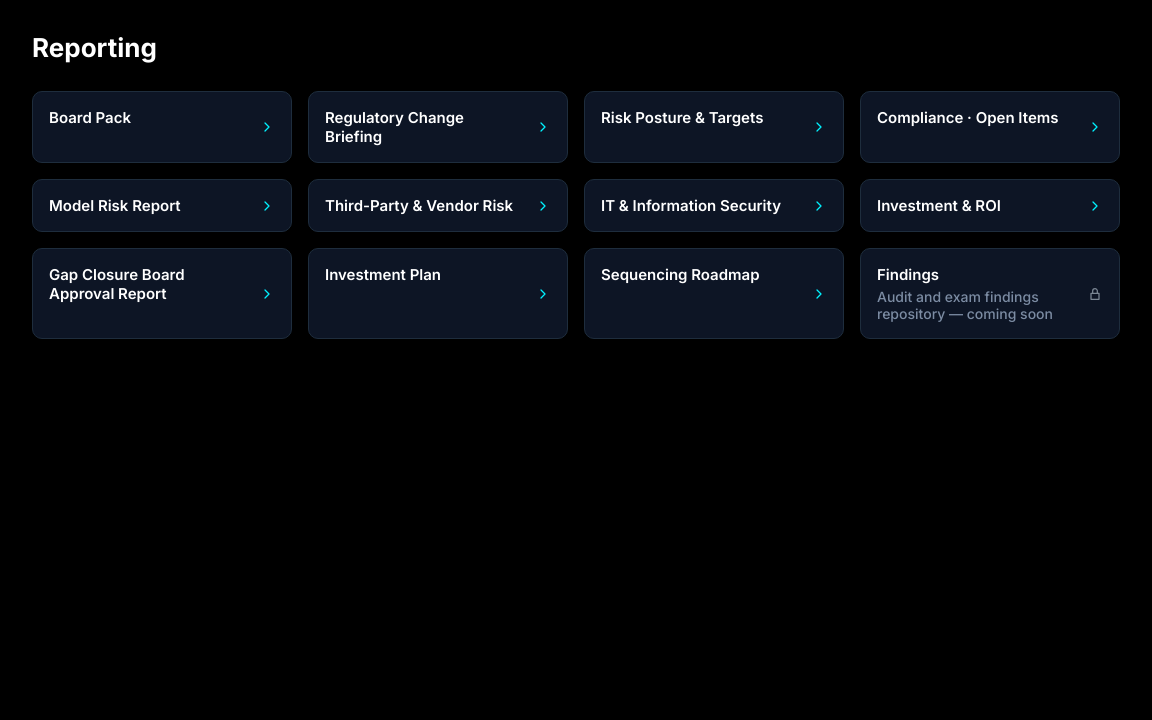
Test case: RPT-07 — gapboard per-case language blocks (base 1493-1502) › renders Before/After language, the Prepared-by attribution, and the minutes line for a committee case
Click the button "Gap Closure Board Approval Report". click: (162, 294)
box: [32, 248, 292, 339]
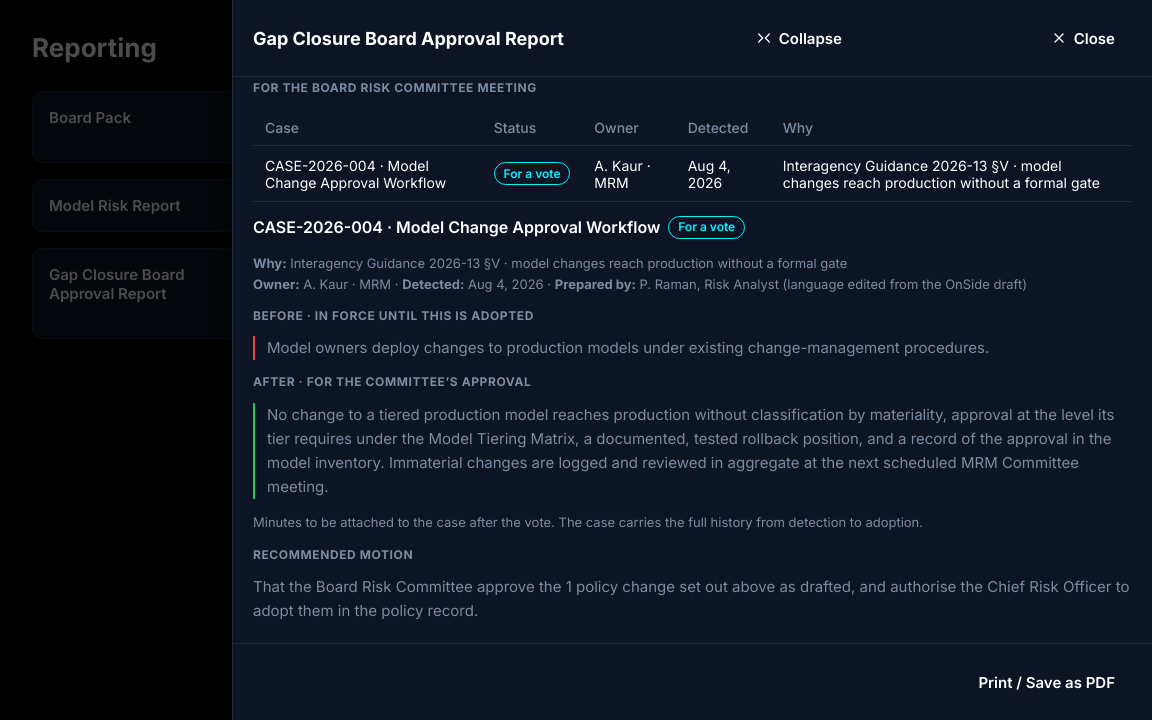
expect the text "Before · in force until this is adopted" is shown: met, box [253, 308, 534, 323]
expect the text "After · for the committee’s approval" is shown: met, box [253, 374, 531, 389]
expect the text "No change to a tiered production model reaches production without classification by materiality, approval at the level i" is shown: met, box [267, 405, 1114, 496]
